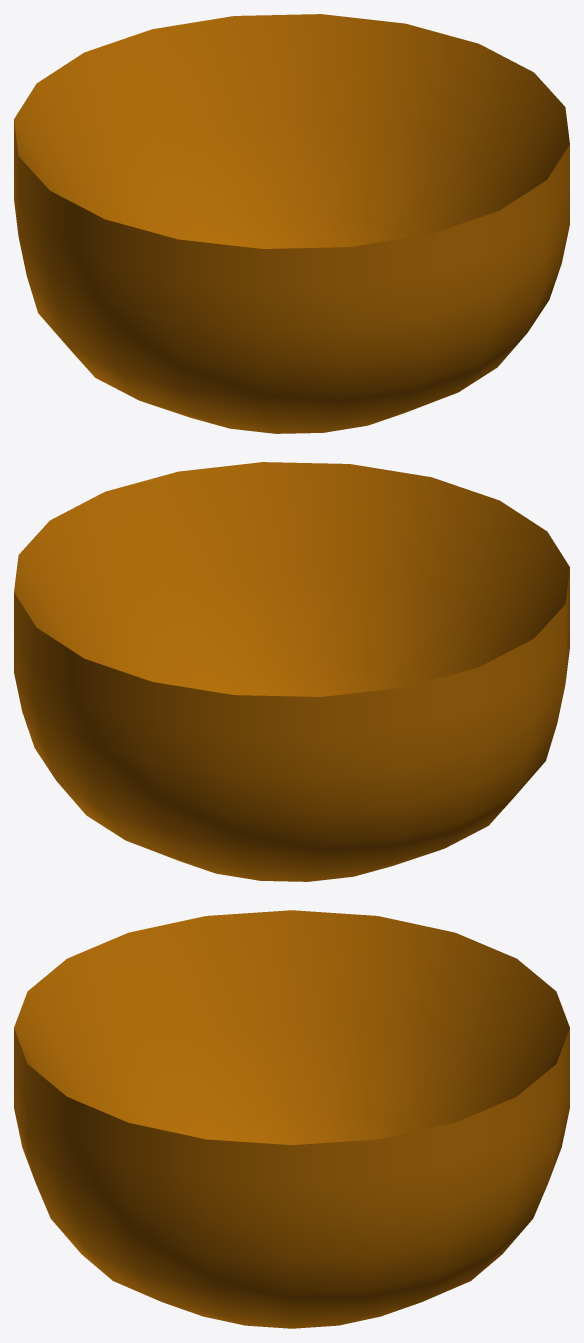
The model's file is bowl.fbx.
3 renders of one model, top to bottom at view 1: azimuth 30°, elevation 25°; view 2: azimuth 150°, elevation 25°; view 3: azimuth 270°, elevation 25°, orthographic.
Visible parts, largest first — view 1: pCylinder1; view 2: pCylinder1; view 3: pCylinder1.
Boxes of the visible parts, left/top/right/bottom form: pCylinder1: left=14, top=14, right=569, bottom=433; pCylinder1: left=14, top=462, right=569, bottom=881; pCylinder1: left=14, top=910, right=569, bottom=1328.
Bounding box in the file's own units: 2.04 × 0.9619 × 2.04.
